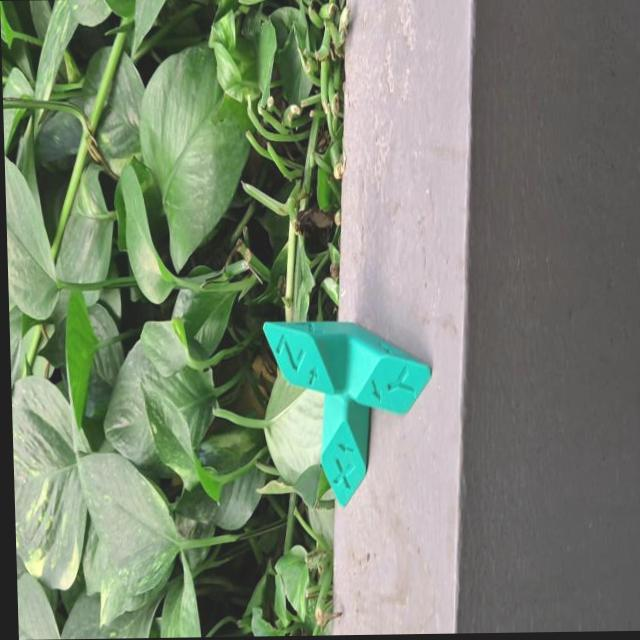eje: (262, 316, 437, 511)
